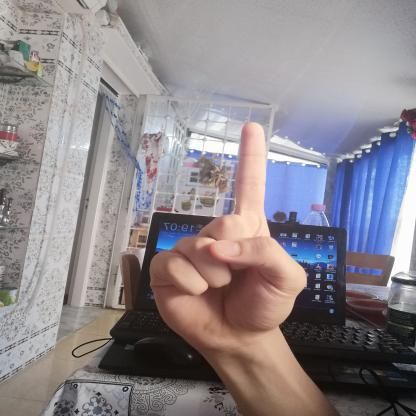BAA: (135, 112, 316, 360)
